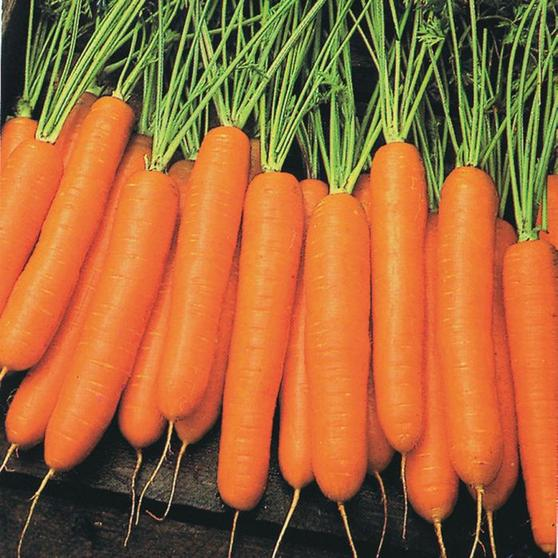carrot: (45, 170, 186, 476), (218, 170, 306, 511), (165, 124, 254, 429), (299, 190, 381, 505), (433, 161, 508, 485), (371, 140, 439, 458)
